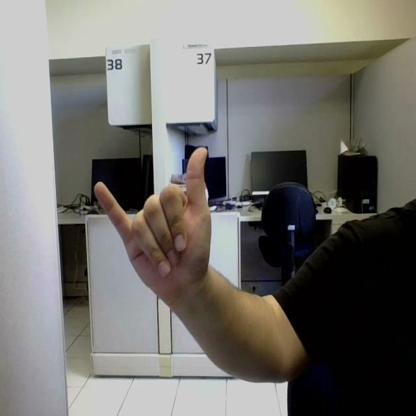Y: (94, 148, 208, 299)
